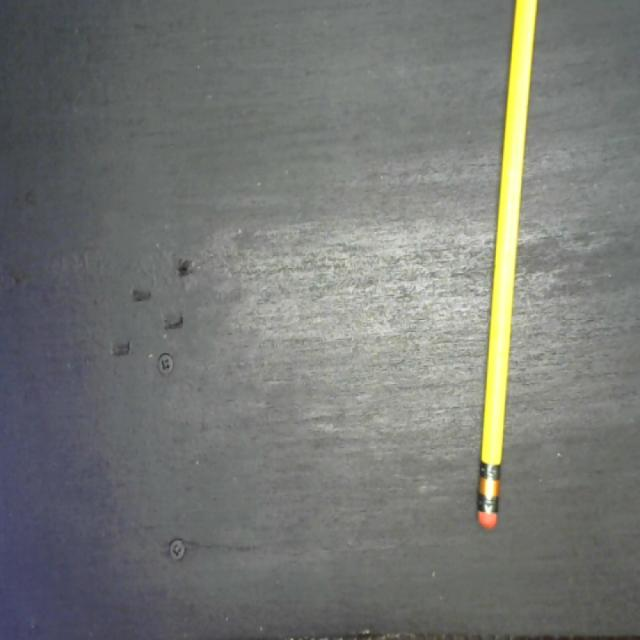biodegradable: (471, 0, 540, 539)
